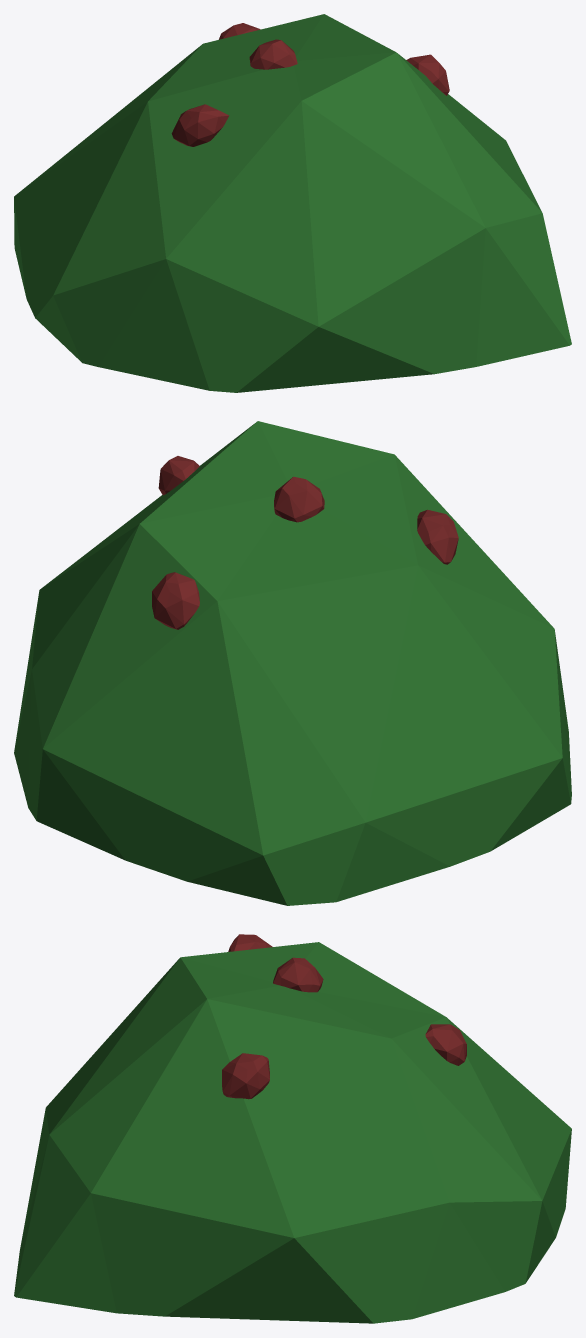
Rendered from Bush.fbx.
3 renders of one model, top to bottom at view 1: azimuth 30°, elevation 25°; view 2: azimuth 150°, elevation 25°; view 3: azimuth 270°, elevation 25°, orthographic. The views are drawn at different scales.
Visible parts, largest first — view 1: Bush; view 2: Bush; view 3: Bush.
Boxes of the visible parts, x1,y1,x2,y2 form: Bush: [14, 14, 571, 392]; Bush: [14, 421, 571, 905]; Bush: [14, 934, 571, 1323].
Bounding box in the file's own units: 836 × 446 × 847.
